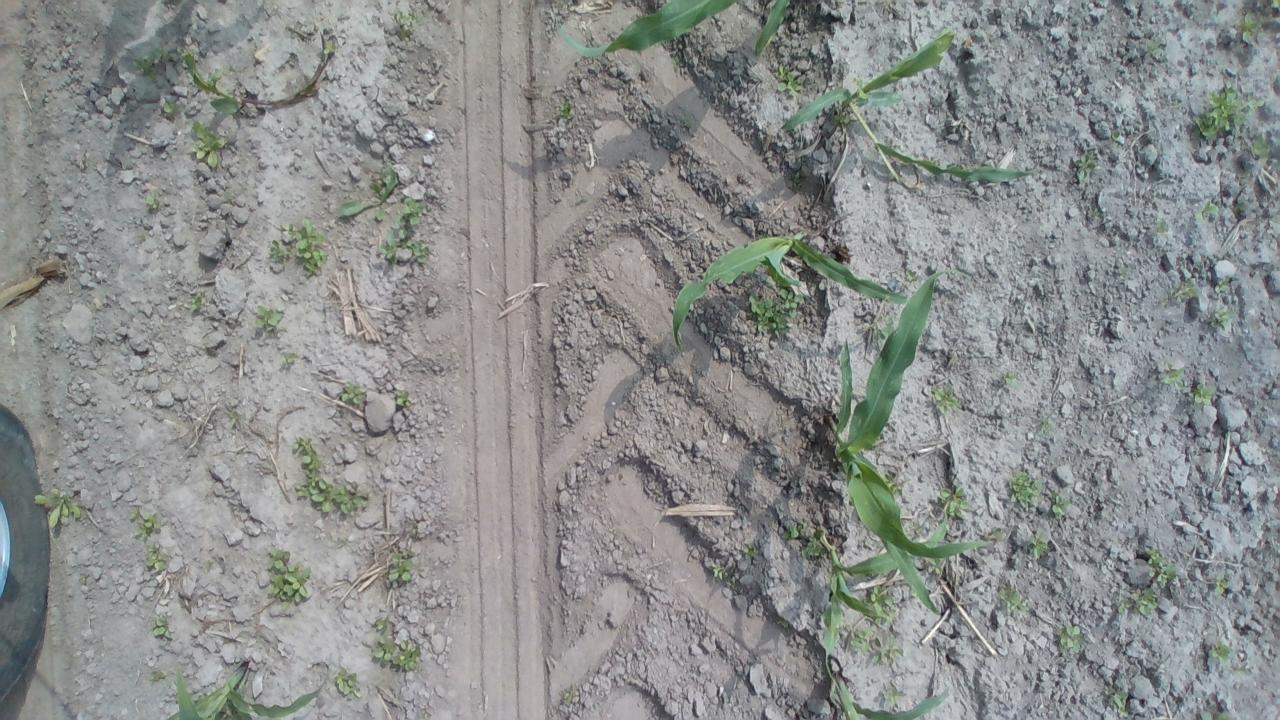Maize: (828, 270, 1003, 618), (781, 29, 1038, 189), (671, 226, 912, 354), (816, 515, 949, 720), (554, 0, 792, 58), (167, 660, 332, 720), (831, 666, 956, 720), (181, 51, 245, 116)
Weeds: (288, 436, 370, 516), (1190, 78, 1264, 139), (377, 196, 432, 265), (269, 217, 331, 278), (338, 162, 399, 221), (264, 543, 312, 610), (370, 616, 423, 674), (748, 288, 804, 338), (844, 623, 908, 666), (32, 485, 82, 528), (192, 120, 226, 170), (1142, 544, 1180, 588), (784, 518, 824, 558), (1008, 470, 1046, 512), (132, 46, 174, 82), (1208, 639, 1245, 676), (862, 314, 898, 351), (868, 582, 898, 624), (251, 302, 284, 338), (1118, 588, 1158, 616), (387, 548, 418, 584), (998, 585, 1031, 618), (1054, 620, 1086, 654), (128, 509, 162, 540), (930, 382, 960, 417), (1234, 12, 1266, 44), (1162, 360, 1192, 394), (938, 486, 969, 518), (332, 669, 362, 702), (1074, 148, 1102, 182), (774, 63, 802, 96), (338, 378, 368, 408), (1103, 684, 1129, 718), (143, 546, 174, 574), (1026, 526, 1050, 560), (206, 63, 242, 83), (710, 559, 736, 586), (150, 614, 176, 640), (175, 44, 202, 68), (1050, 490, 1072, 519), (1170, 280, 1198, 302), (1192, 382, 1217, 406), (1210, 306, 1234, 328), (1194, 201, 1218, 223), (392, 8, 418, 28), (1252, 134, 1269, 162), (922, 556, 945, 575), (278, 350, 298, 370), (884, 686, 906, 704), (1198, 709, 1234, 720), (1004, 371, 1024, 390), (1144, 38, 1164, 57), (1214, 574, 1230, 597), (884, 479, 912, 492), (395, 389, 414, 408), (190, 293, 208, 312), (162, 96, 180, 115), (559, 100, 576, 120), (144, 190, 161, 210), (832, 111, 858, 124), (223, 408, 242, 425), (742, 542, 759, 560), (1040, 415, 1058, 432), (1153, 216, 1169, 233), (911, 519, 930, 533), (1214, 278, 1230, 294), (149, 670, 169, 682), (322, 38, 336, 54), (1088, 206, 1102, 220), (905, 269, 919, 282), (562, 690, 574, 704), (991, 526, 1004, 538), (1111, 130, 1121, 140), (1118, 270, 1129, 279), (671, 55, 680, 65), (1271, 0, 1280, 9), (78, 574, 85, 584)
